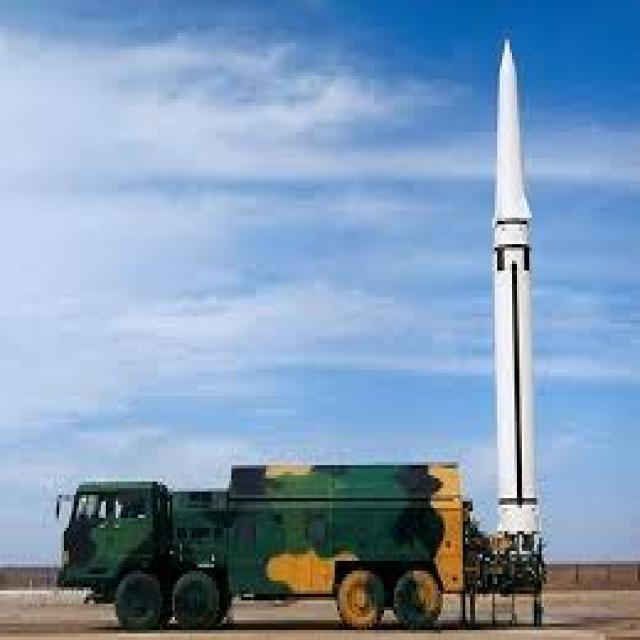Missile: (490, 40, 542, 533)
